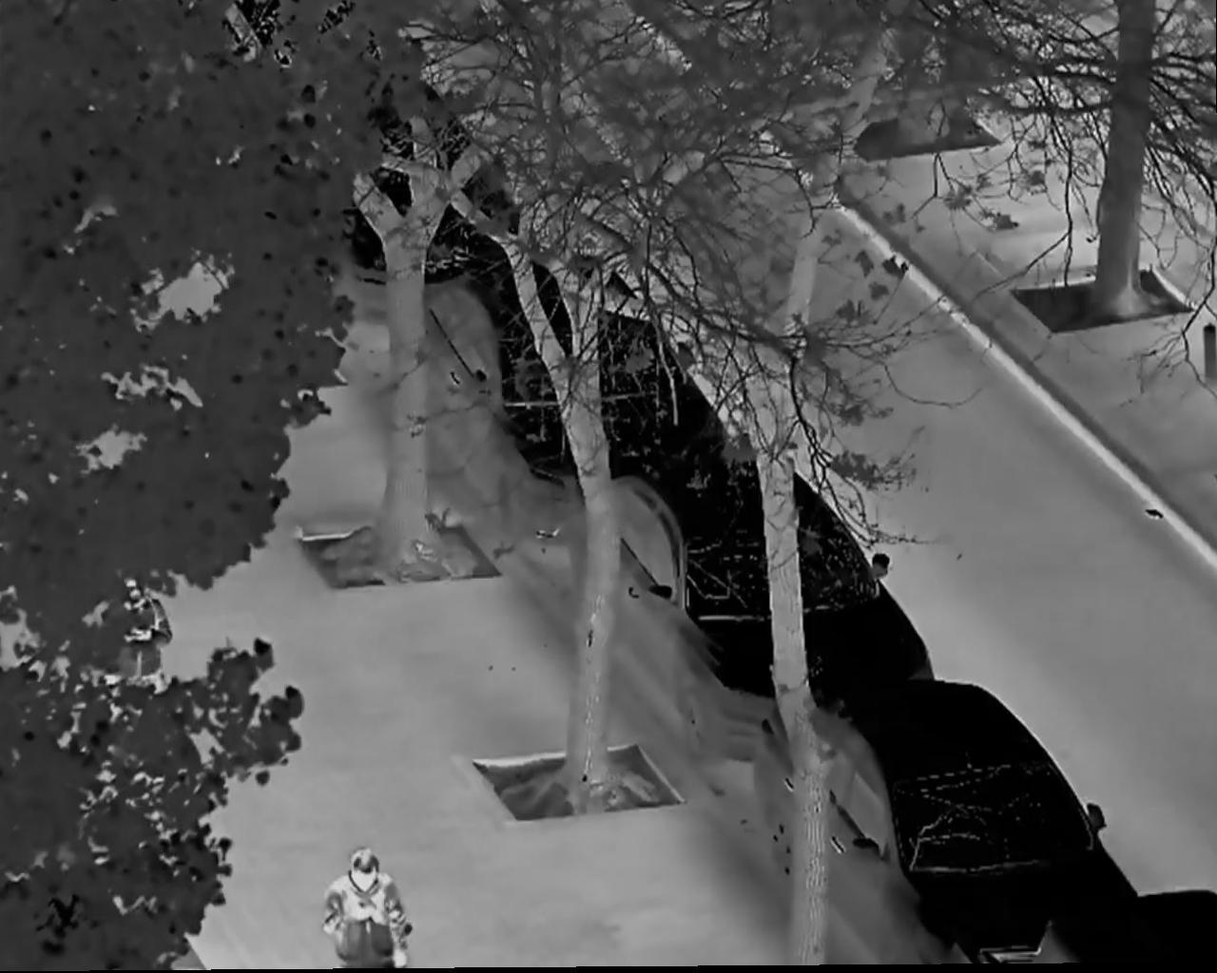person: (315, 849, 407, 973)
